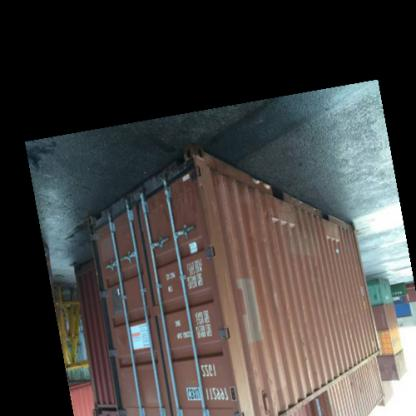Damage: (177, 154, 209, 208), (264, 214, 301, 234), (320, 234, 348, 255)
